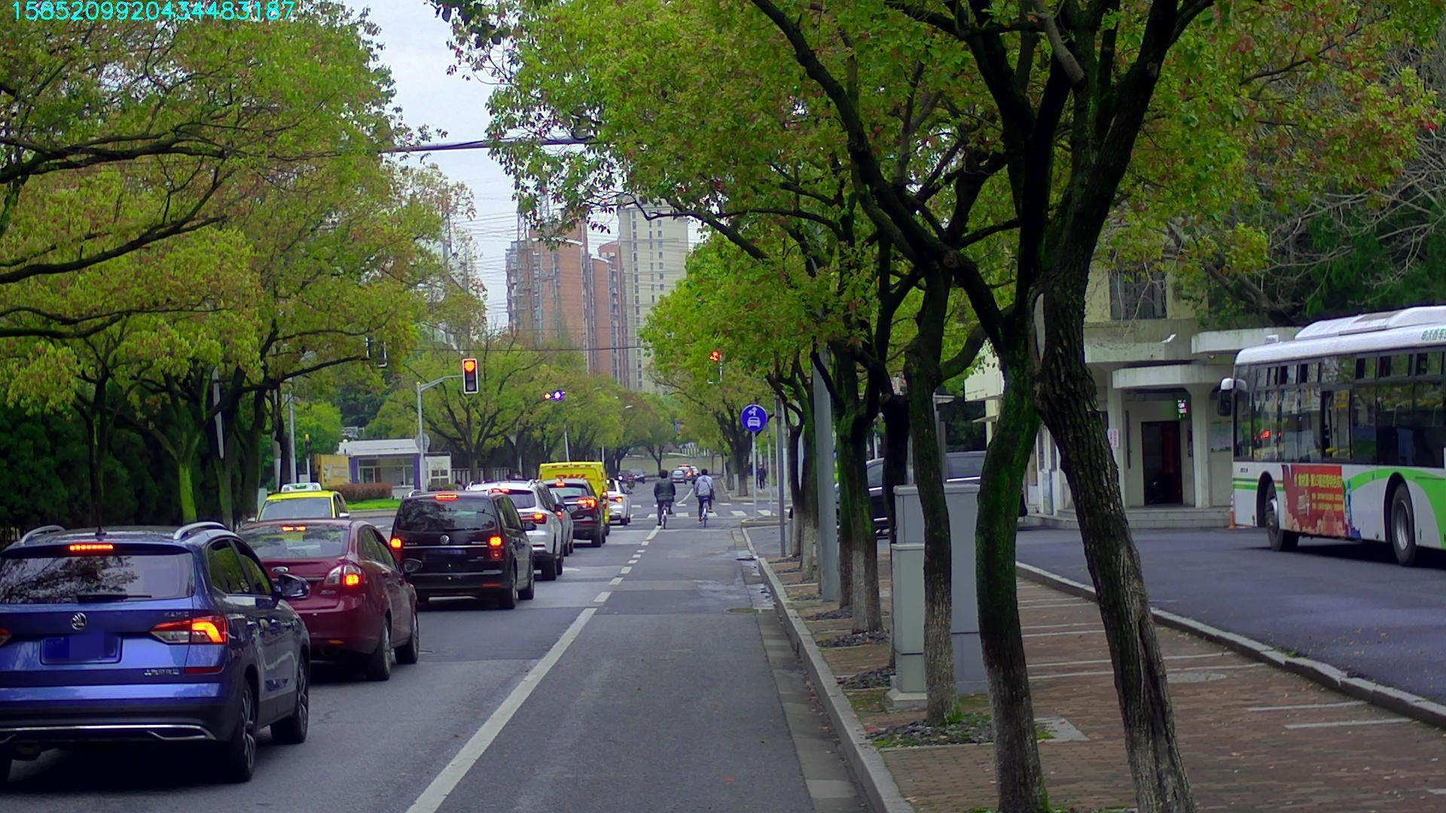red: (706, 348, 721, 382), (462, 359, 477, 392)
